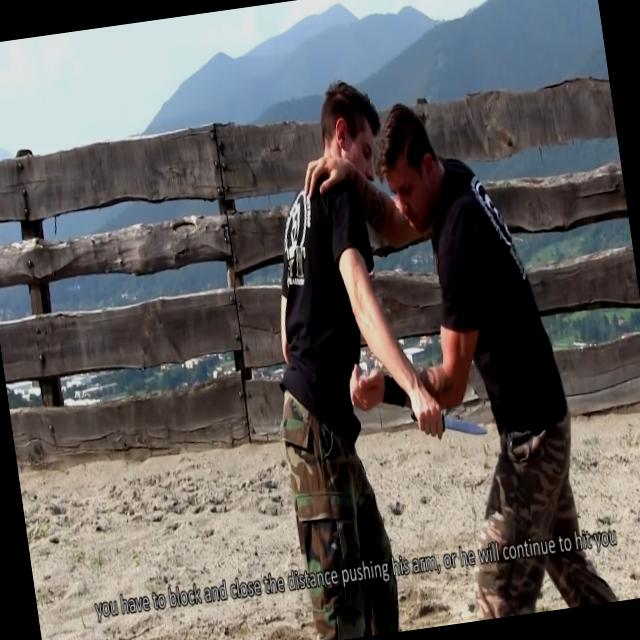knife: (406, 391, 492, 450)
